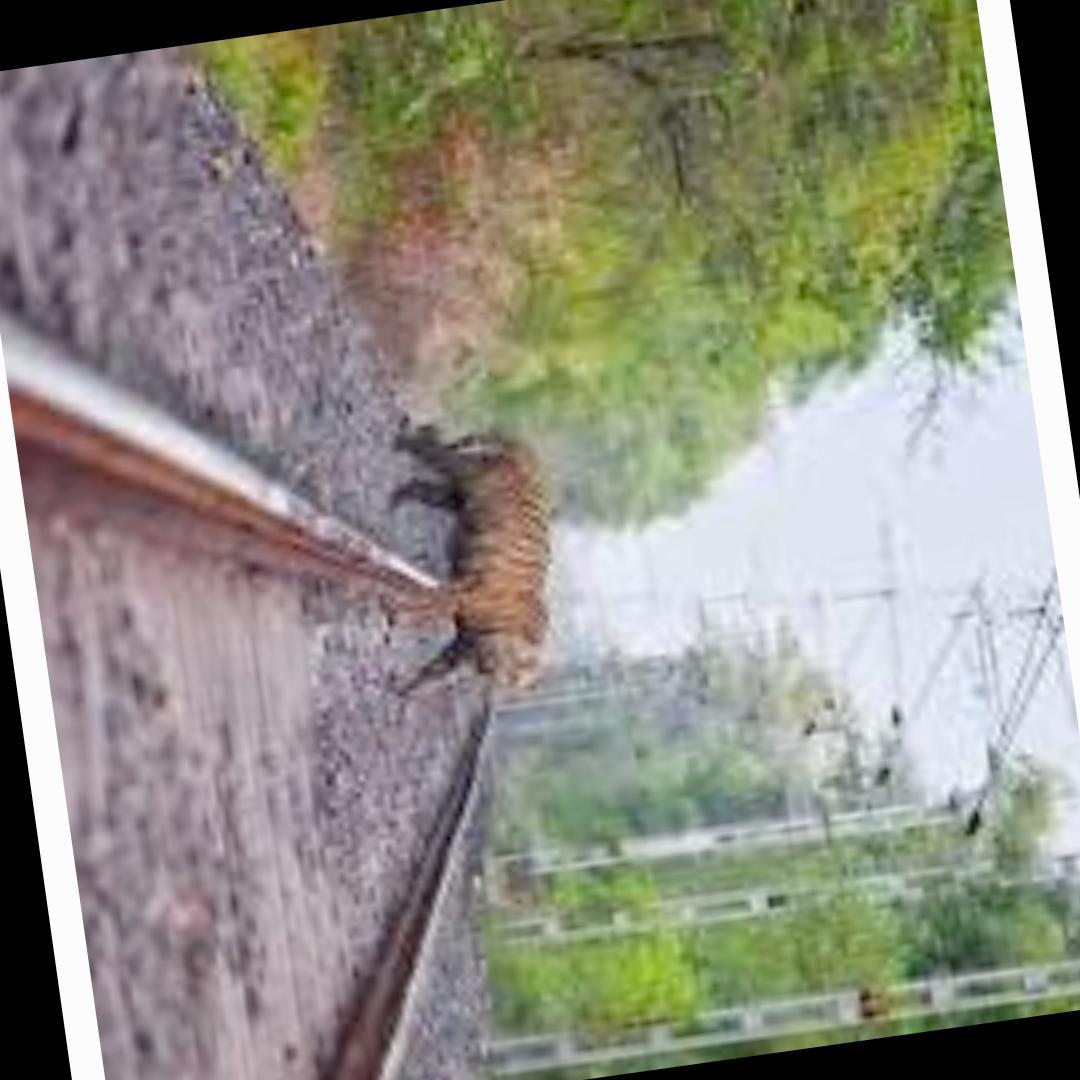track: (0, 297, 522, 1080)
